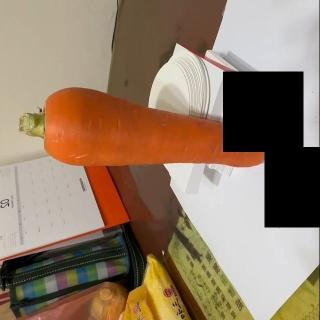carrot: (20, 86, 270, 172)
